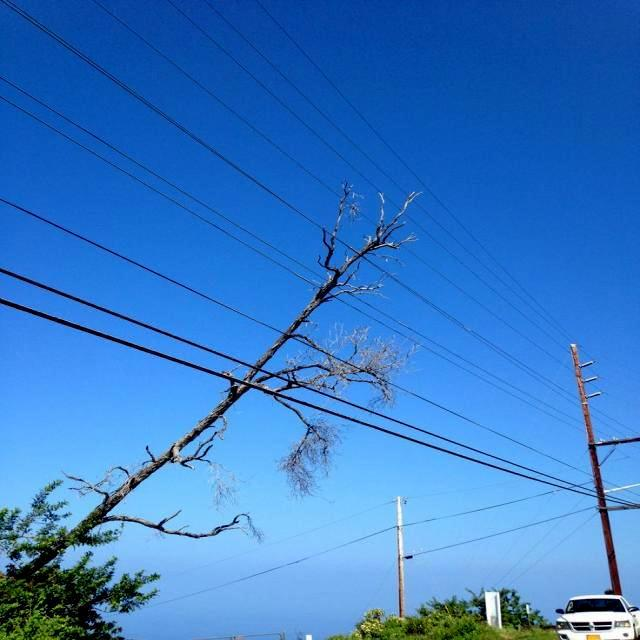light_pole: (160, 142, 531, 511)
